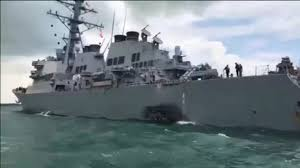tau_muctieu: (17, 9, 300, 133)
